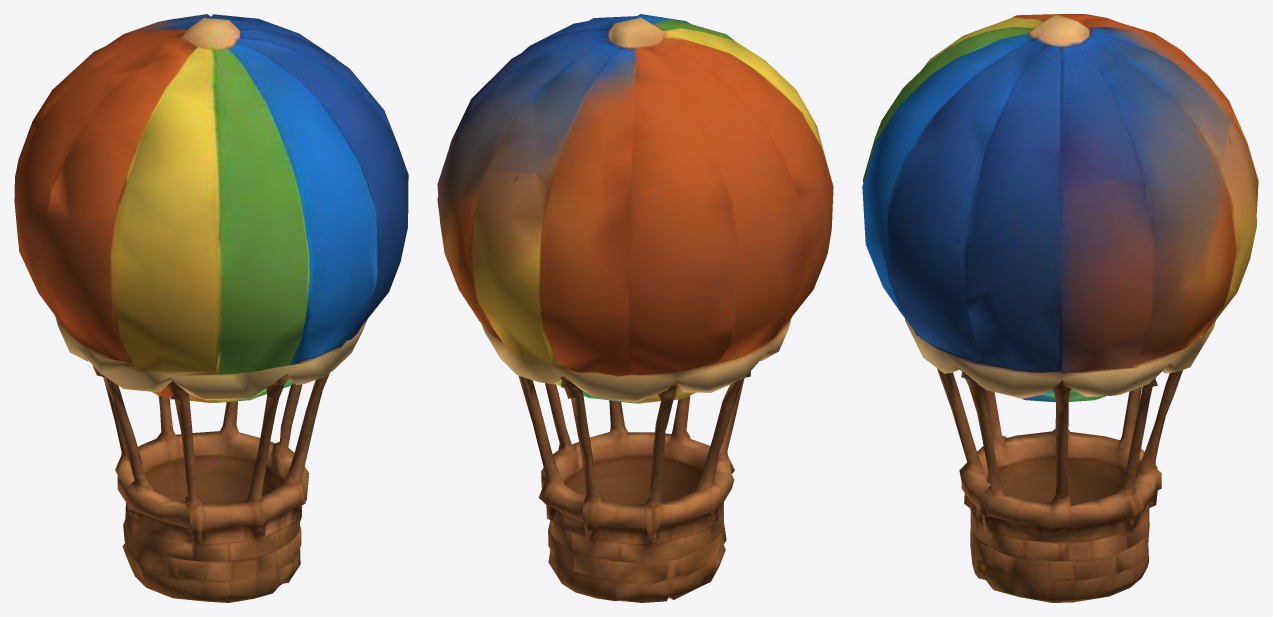
Rendered from balloon.glb.
3 views of the same model, side by side, from view 1: azimuth 30°, elevation 25°; view 2: azimuth 150°, elevation 25°; view 3: azimuth 270°, elevation 25° (orthographic).
Parts seen in each view (by area): view 1: model; view 2: model; view 3: model.
Part boxes in pixels (x1=…): model: x1=14, y1=14, x2=408, y2=602; model: x1=437, y1=14, x2=833, y2=602; model: x1=862, y1=14, x2=1258, y2=602.
Bounding box in the file's own units: 1.23 × 1.91 × 1.24.
1 material, 1 textured.
